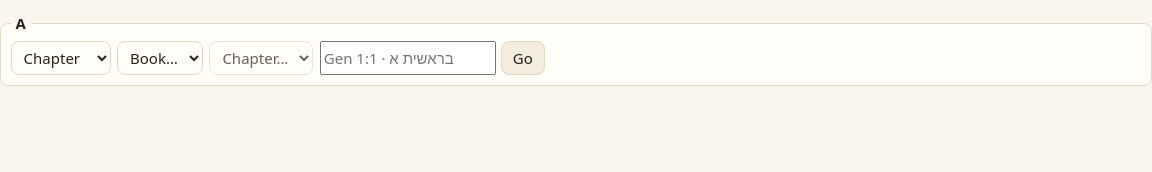
UnitPicker › resolves a typed reference
Type "Gen 1" into the field named "A reference" at (408, 58), box [320, 41, 496, 75]
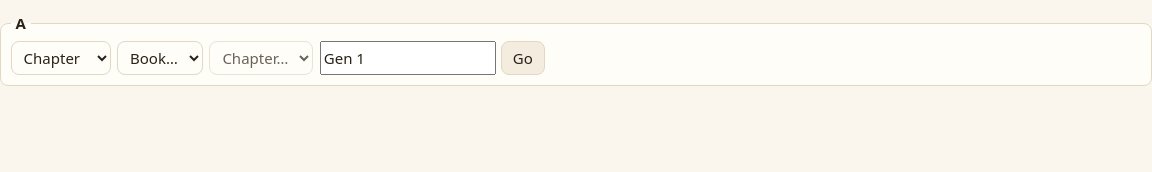
Submit the form named "A reference", box [320, 41, 545, 75]
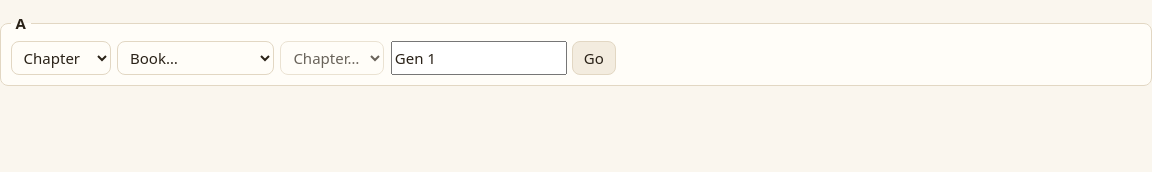
Replace the text in the field named "A reference" with "xyz" at (479, 58), box [391, 41, 567, 75]
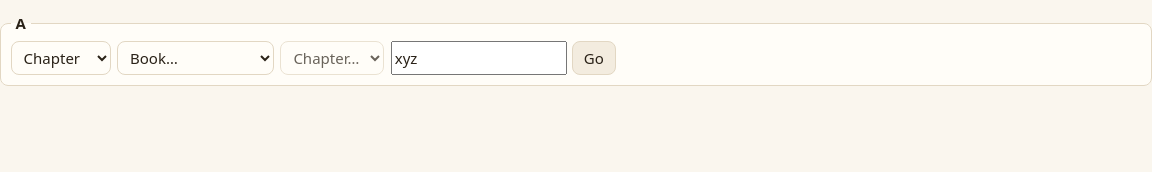
Submit the form named "A reference", box [391, 41, 616, 75]
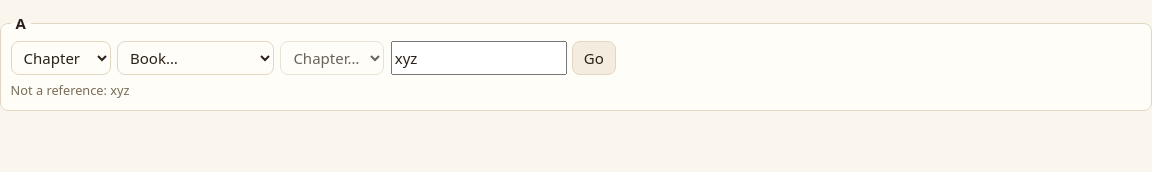
Now the text "Not a reference: xyz" is shown, box [11, 81, 130, 99]
